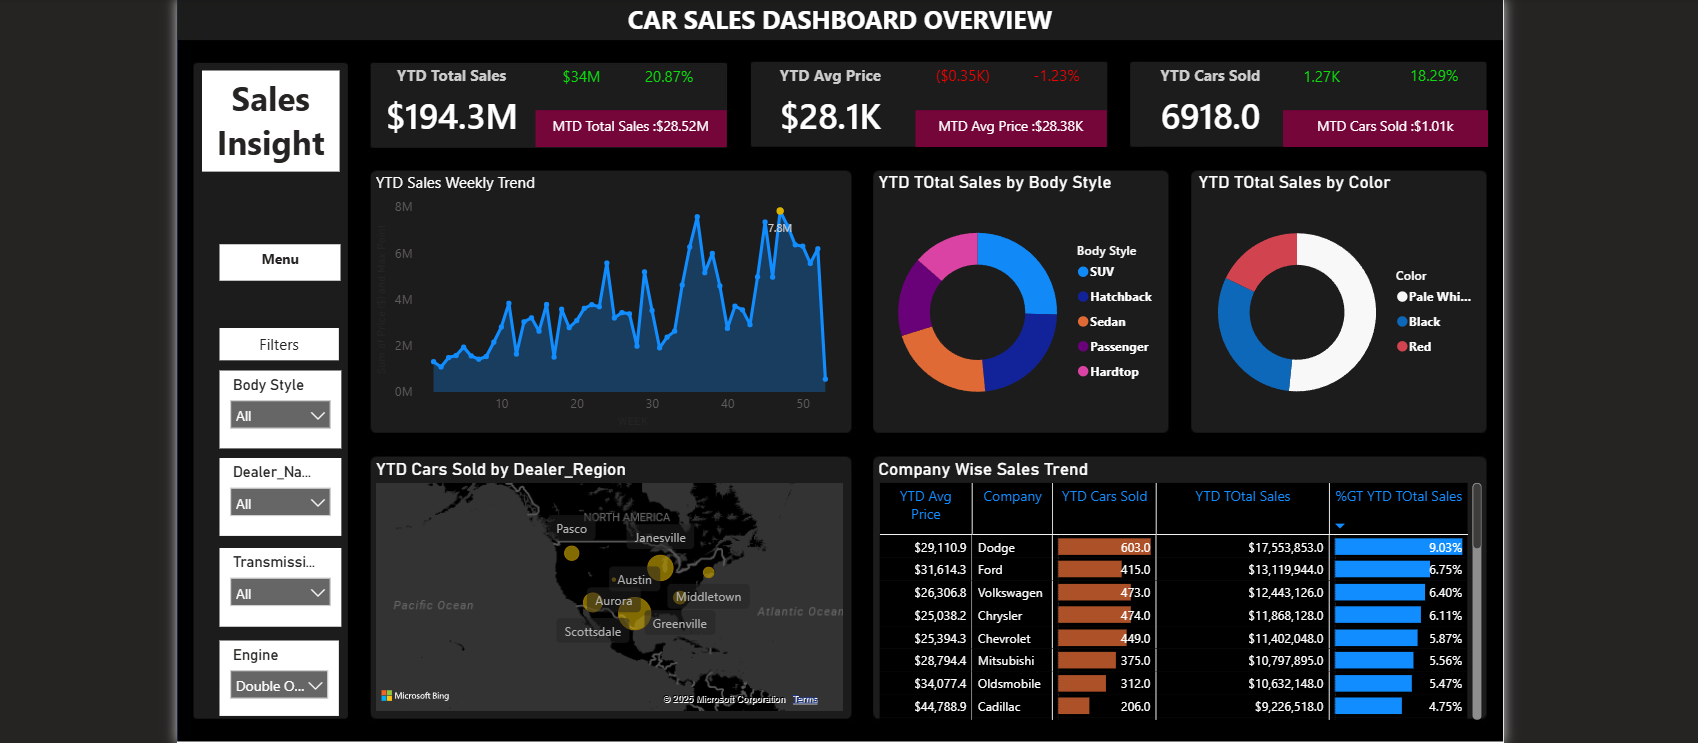

Layout of this report page (visuals, bound fields, positions):
{"tool":"powerbi","page":{"name":"Overview","canvas":[1280,720],"ordinal":0},"visuals":[{"type":"card","title":"YTD Total Sales","fields":{"Values":["car_data.YTD TOtal Sales"]},"box":[187.5,63.8,156.2,80],"z":0},{"type":"card","fields":{"Values":["car_data.Sales Difference"]},"box":[343.8,63.8,93.8,28.8],"z":1000},{"type":"card","fields":{"Values":["car_data.YoY Sales Growth"]},"box":[428.8,63.8,93.8,28.8],"z":2000},{"type":"card","fields":{"Values":["car_data.MTD KPI"]},"box":[346.2,108.8,183.8,35],"z":3000},{"type":"card","title":"YTD Avg Price","fields":{"Values":["car_data.YTD Avg Price"]},"box":[552.5,63.8,156.2,80],"z":4000},{"type":"card","fields":{"Values":["car_data.Avg Price Diff"]},"box":[711.2,57.5,93.8,37.5],"z":5000},{"type":"card","fields":{"Values":["car_data.YoY Avg Price Growth"]},"box":[802.5,60,93.8,32.5],"z":6000},{"type":"card","fields":{"Values":["car_data.MTD Avg Price KPI"]},"box":[712.5,108.8,183.8,35],"z":7000},{"type":"card","title":"YTD Cars Sold","fields":{"Values":["car_data.YTD Cars Sold"]},"box":[918.8,63.8,156.2,80],"z":8000},{"type":"card","fields":{"Values":["car_data.Cars Sold Diff"]},"box":[1057.5,58.8,93.8,37.5],"z":9000},{"type":"card","fields":{"Values":["car_data.YoY Car Sold  Growth"]},"box":[1166.2,57.5,93.8,37.5],"z":10000},{"type":"card","fields":{"Values":["car_data.MTD  Car Sold KPI"]},"box":[1067.5,108.8,197.5,35],"z":11000},{"type":"areaChart","title":"YTD Sales Weekly Trend","fields":{"Category":["Calender Table.WEEK"],"Y":["Sum(car_data.Price ($))","car_data.Max Point"]},"box":[187.5,167.5,461.2,252.5],"z":12000},{"type":"donutChart","fields":{"Category":["car_data.Body Style"],"Y":["car_data.YTD TOtal Sales"]},"box":[672.5,167.5,283.8,252.5],"z":13000},{"type":"donutChart","fields":{"Y":["car_data.YTD TOtal Sales"],"Category":["car_data.Color"]},"box":[981.2,167.5,283.8,252.5],"z":14000},{"type":"map","fields":{"Category":["car_data.Dealer_Region"],"Size":["car_data.YTD Cars Sold"]},"box":[187.5,443.8,461.2,248.8],"z":15000},{"type":"tableEx","title":"Company Wise Sales Trend","fields":{"Values":["car_data.YTD Avg Price","car_data.Company","car_data.YTD Cars Sold","car_data.YTD TOtal Sales1","car_data.YTD TOtal Sales"]},"box":[672.5,443.8,592.5,257.5],"z":16000},{"type":"textbox","box":[77.5,0,1125,57.5],"z":17000},{"type":"slicer","fields":{"Values":["car_data.Body Style"]},"box":[41.2,360,117.5,75],"z":18000},{"type":"slicer","fields":{"Values":["car_data.Dealer_Name"]},"box":[41.2,443.8,117.5,75],"z":19000},{"type":"slicer","fields":{"Values":["car_data.Transmission"]},"box":[41.2,531.2,117.5,76.2],"z":20000},{"type":"slicer","fields":{"Values":["car_data.Engine"]},"box":[41.2,620,115,72.5],"z":21000},{"type":"textbox","box":[41.2,318.8,115,31.2],"z":22000},{"type":"textbox","box":[24.1,70,132.7,97.7],"z":24000},{"type":"textbox","box":[41,237.7,117,35],"z":25000}]}

Visuals, with their boxes on the page's 1280x720 design canvas (x1, y1, x2, y2). These are canvas units, not pixel positions in the 1698x743 screenshot, which may show the page scaled, cropped or inside an application window:
"YTD Total Sales" card: (left=188, top=64, right=344, bottom=144)
card - car_data.Sales Difference: (left=344, top=64, right=438, bottom=93)
card - car_data.YoY Sales Growth: (left=429, top=64, right=523, bottom=93)
card - car_data.MTD KPI: (left=346, top=109, right=530, bottom=144)
"YTD Avg Price" card: (left=552, top=64, right=709, bottom=144)
card - car_data.Avg Price Diff: (left=711, top=58, right=805, bottom=95)
card - car_data.YoY Avg Price Growth: (left=802, top=60, right=896, bottom=92)
card - car_data.MTD Avg Price KPI: (left=712, top=109, right=896, bottom=144)
"YTD Cars Sold" card: (left=919, top=64, right=1075, bottom=144)
card - car_data.Cars Sold Diff: (left=1058, top=59, right=1151, bottom=96)
card - car_data.YoY Car Sold  Growth: (left=1166, top=58, right=1260, bottom=95)
card - car_data.MTD  Car Sold KPI: (left=1068, top=109, right=1265, bottom=144)
"YTD Sales Weekly Trend" areaChart: (left=188, top=168, right=649, bottom=420)
donutChart - car_data.Body Style x car_data.YTD TOtal Sales: (left=672, top=168, right=956, bottom=420)
donutChart - car_data.YTD TOtal Sales x car_data.Color: (left=981, top=168, right=1265, bottom=420)
map - car_data.Dealer_Region x car_data.YTD Cars Sold: (left=188, top=444, right=649, bottom=693)
"Company Wise Sales Trend" tableEx: (left=672, top=444, right=1265, bottom=701)
textbox: (left=78, top=0, right=1202, bottom=58)
slicer - car_data.Body Style: (left=41, top=360, right=159, bottom=435)
slicer - car_data.Dealer_Name: (left=41, top=444, right=159, bottom=519)
slicer - car_data.Transmission: (left=41, top=531, right=159, bottom=607)
slicer - car_data.Engine: (left=41, top=620, right=156, bottom=692)
textbox: (left=41, top=319, right=156, bottom=350)
textbox: (left=24, top=70, right=157, bottom=168)
textbox: (left=41, top=238, right=158, bottom=273)
